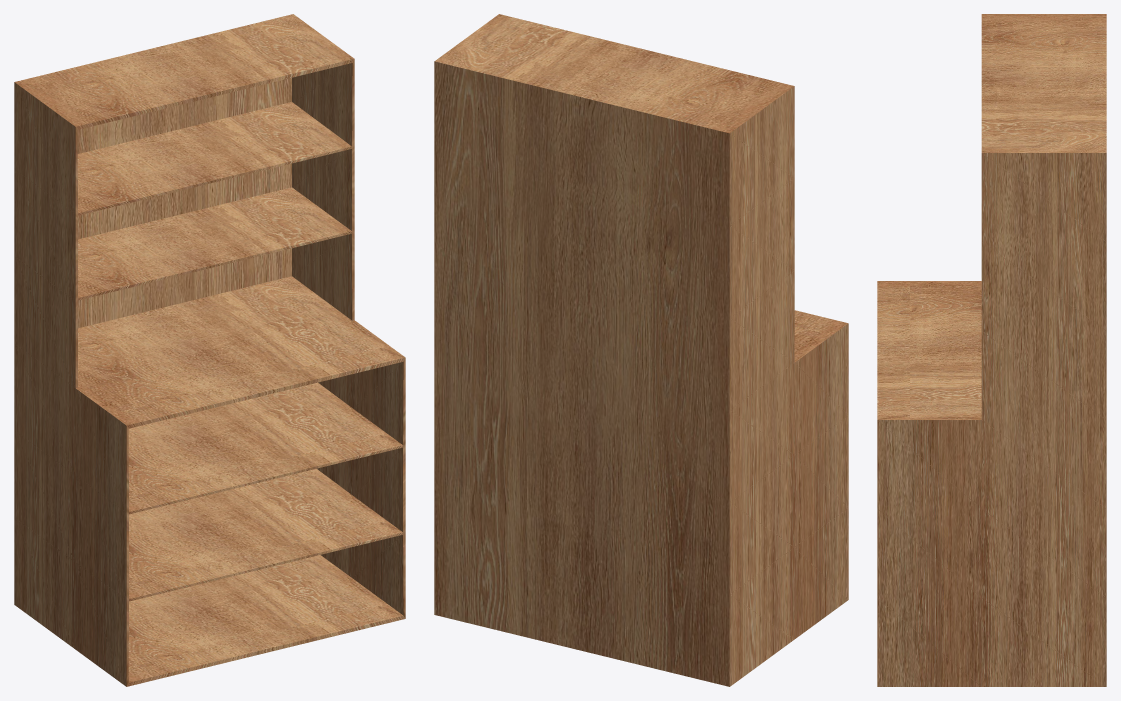
Rendered from bookcupboard.glb.
3 renders of one model, left to right at view 1: azimuth 30°, elevation 25°; view 2: azimuth 150°, elevation 25°; view 3: azimuth 270°, elevation 25°, orthographic. The views are drawn at different scales.
Visible parts, largest first — view 1: cupboard; view 2: cupboard; view 3: cupboard.
Part boxes in pixels (bbox=[...]): cupboard: bbox=[14, 14, 405, 686]; cupboard: bbox=[434, 14, 848, 686]; cupboard: bbox=[877, 14, 1106, 686].
Bounding box in the file's own units: 0.9405 × 1.68 × 0.655.
1 material, 1 textured.
